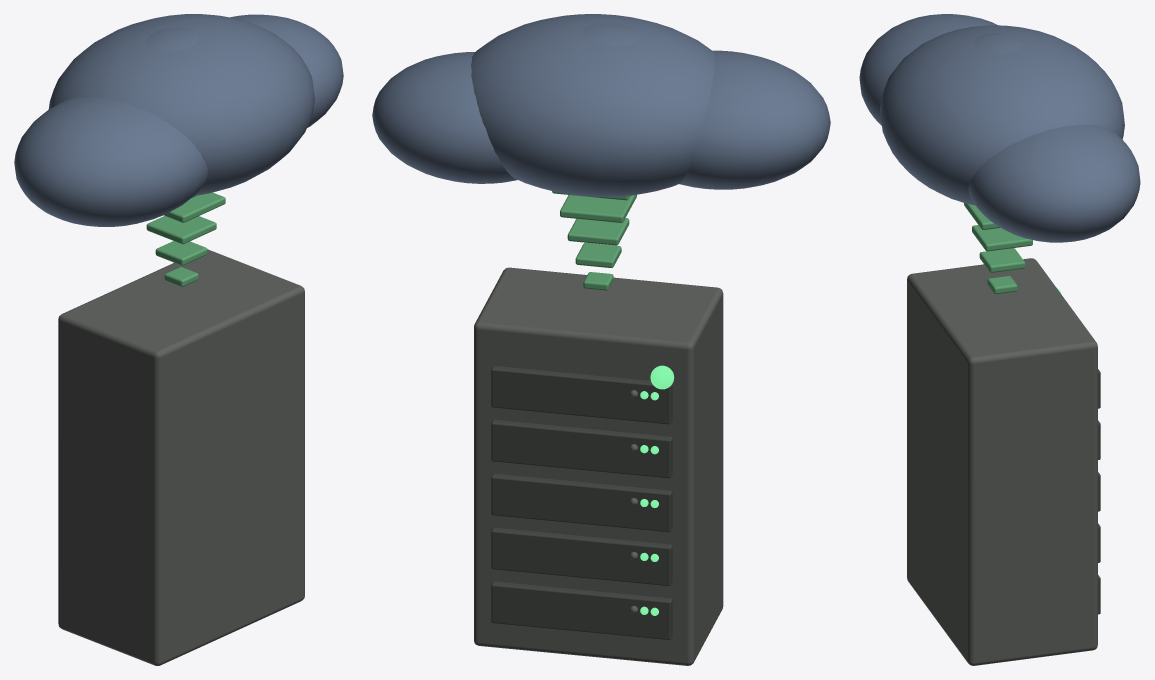
The model's file is care.glb.
The picture shows the model from 3 angles, left to right: view 1: azimuth 30°, elevation 25°; view 2: azimuth 150°, elevation 25°; view 3: azimuth 270°, elevation 25°; orthographic projection. The views are drawn at different scales.
Parts seen in each view (by area): view 1: way.care; view 2: way.care; view 3: way.care.
Part boxes in pixels (x1=…): way.care: x1=14, y1=14, x2=343, y2=665; way.care: x1=372, y1=14, x2=830, y2=665; way.care: x1=859, y1=14, x2=1140, y2=665.
Bounding box in the file's own units: 3.65 × 5.55 × 2.47.
